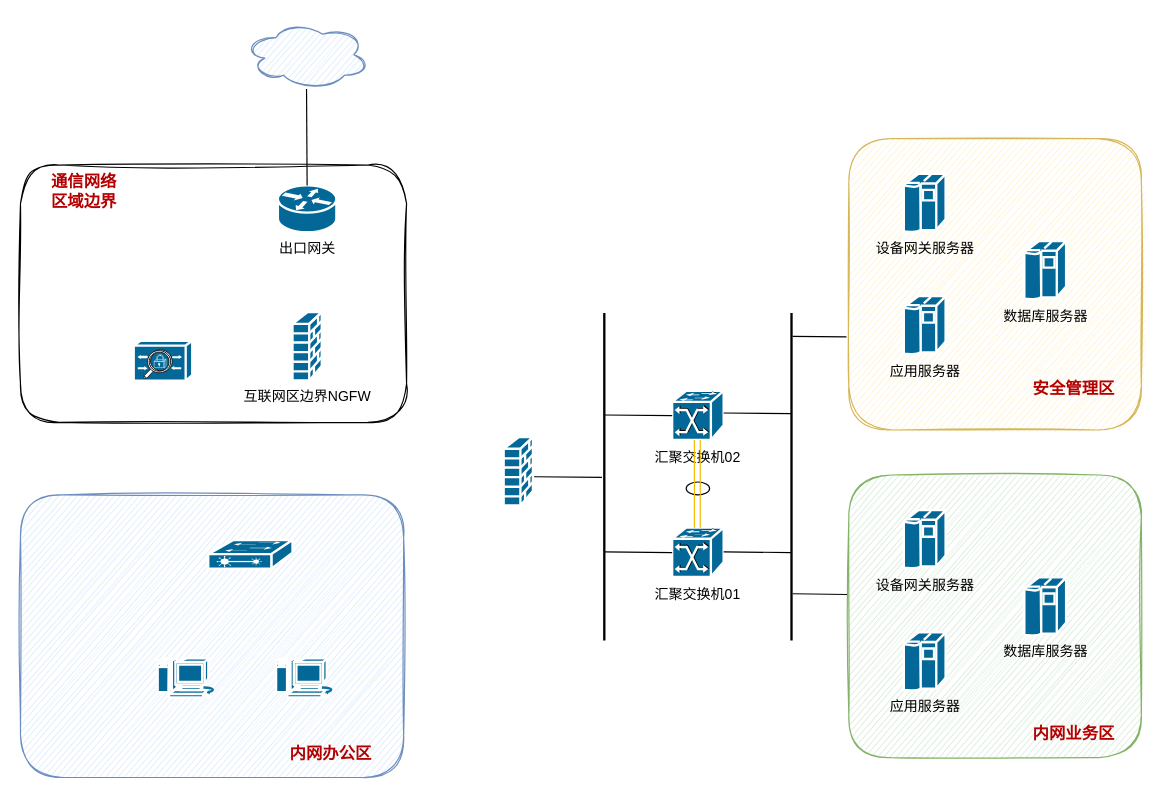
The diagram is 1162 pixels wide and 798 high, and some of its shapes have lost their labels. Each missing label, with the box of its shape:
Internet: (244, 19, 369, 89)
上网行为管理: (132, 339, 193, 381)
业务区边界NGFW: (502, 435, 534, 506)
办公网接入交换机: (207, 538, 293, 569)
